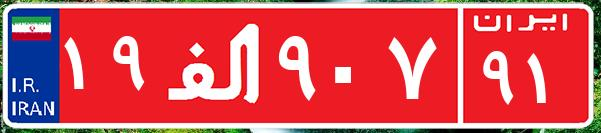0: (330, 28, 385, 110)
1: (57, 26, 110, 107), (525, 38, 570, 115)
7: (385, 28, 445, 110)
9: (273, 28, 330, 110), (475, 38, 525, 113), (110, 28, 158, 105)
الف: (158, 15, 273, 115)
